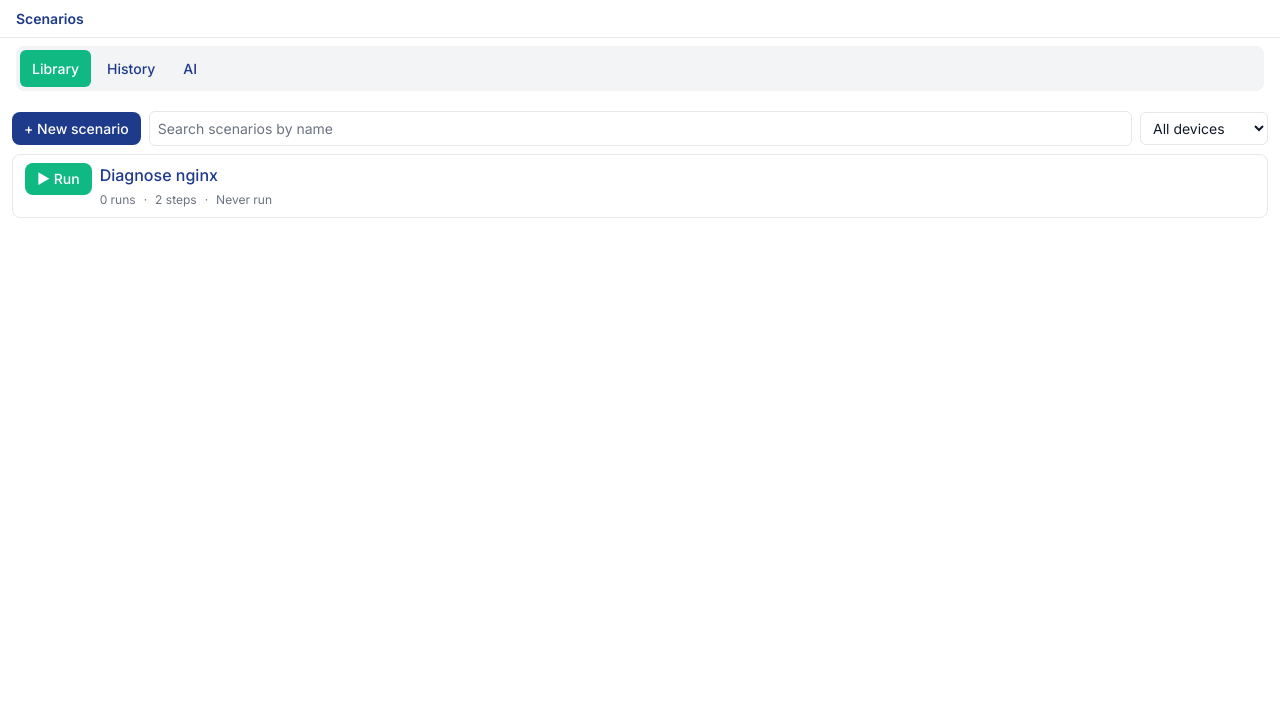
it: ScenariosPanel — launch flow (library → modal → run) › opens PolicyPreviewModal when [▶ Run] is clicked
The image size is (1280, 720).
Check: the list with test id "scenarios-list" is shown, box [12,154,1268,218]
# Click the row's run button
Click the button with test id "scenarios-row-run" at (58, 179), box [25,163,92,195]
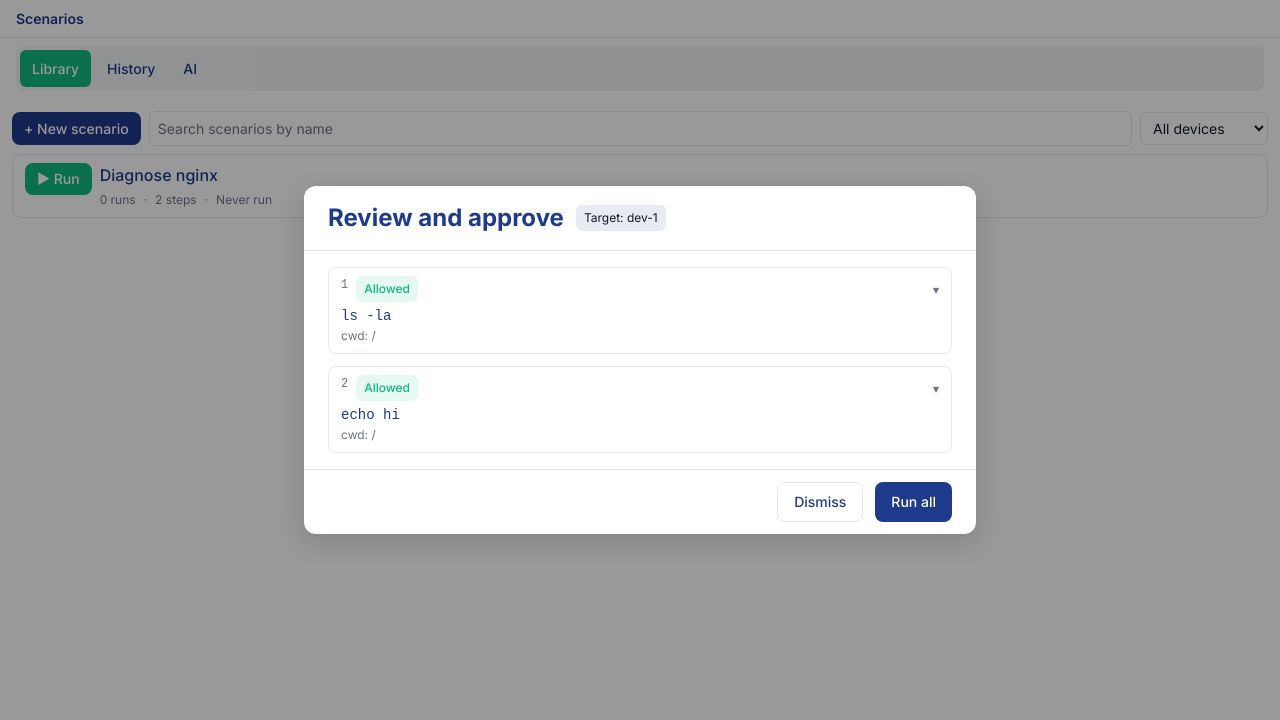
Check: the dialog with test id "policy-preview-backdrop" is shown
